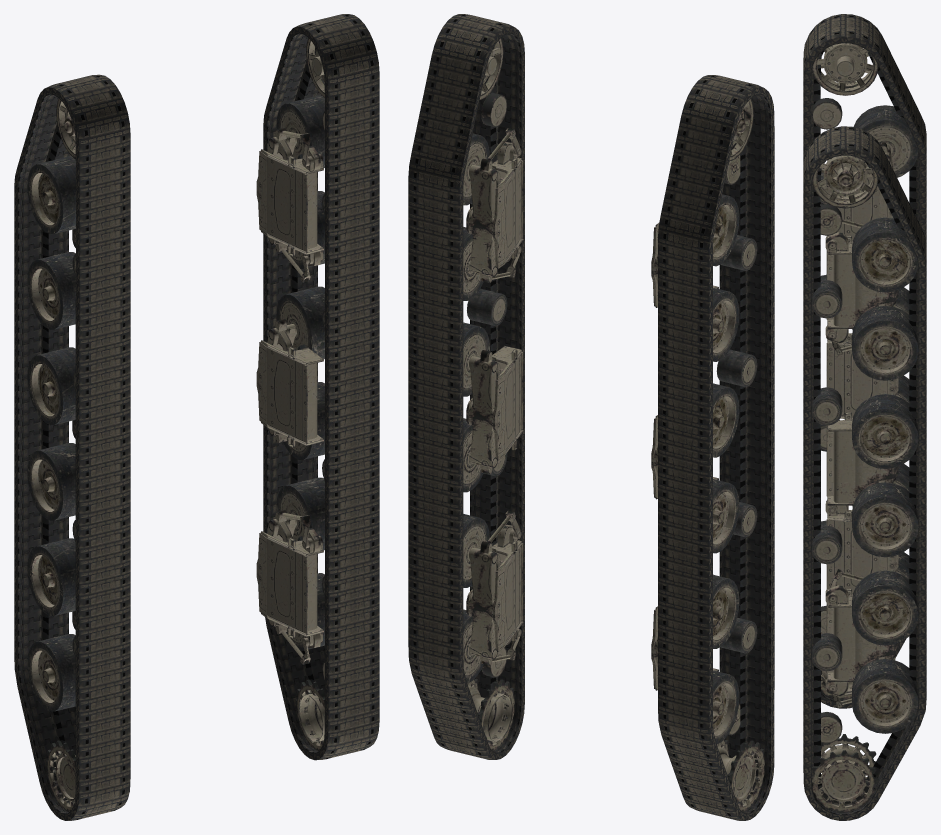
File: Chassis.glb
3 renders of one model, left to right at view 1: azimuth 30°, elevation 25°; view 2: azimuth 150°, elevation 25°; view 3: azimuth 270°, elevation 25°, orthographic. The views are drawn at different scales.
Visible parts, largest first — view 1: set_0_group_0, set_1_group_0, set_3_group_0, set_2_group_0; view 2: set_0_group_0, set_1_group_0, set_3_group_0, set_2_group_0; view 3: set_3_group_0, set_1_group_0, set_2_group_0, set_0_group_0.
Boxes of the visible parts, x1=… form: set_0_group_0: x1=14, y1=74, x2=130, y2=820; set_1_group_0: x1=263, y1=14, x2=379, y2=760; set_3_group_0: x1=256, y1=38, x2=324, y2=750; set_2_group_0: x1=27, y1=98, x2=75, y2=811; set_0_group_0: x1=658, y1=75, x2=774, y2=820; set_1_group_0: x1=408, y1=14, x2=524, y2=759; set_3_group_0: x1=463, y1=38, x2=523, y2=750; set_2_group_0: x1=651, y1=98, x2=764, y2=811; set_3_group_0: x1=811, y1=155, x2=918, y2=811; set_1_group_0: x1=803, y1=126, x2=926, y2=820; set_2_group_0: x1=811, y1=43, x2=918, y2=699; set_0_group_0: x1=803, y1=14, x2=926, y2=708.
Size of the model in its own units: 2.93 by 6.81 by 1.13.
4 materials, 4 textured.
